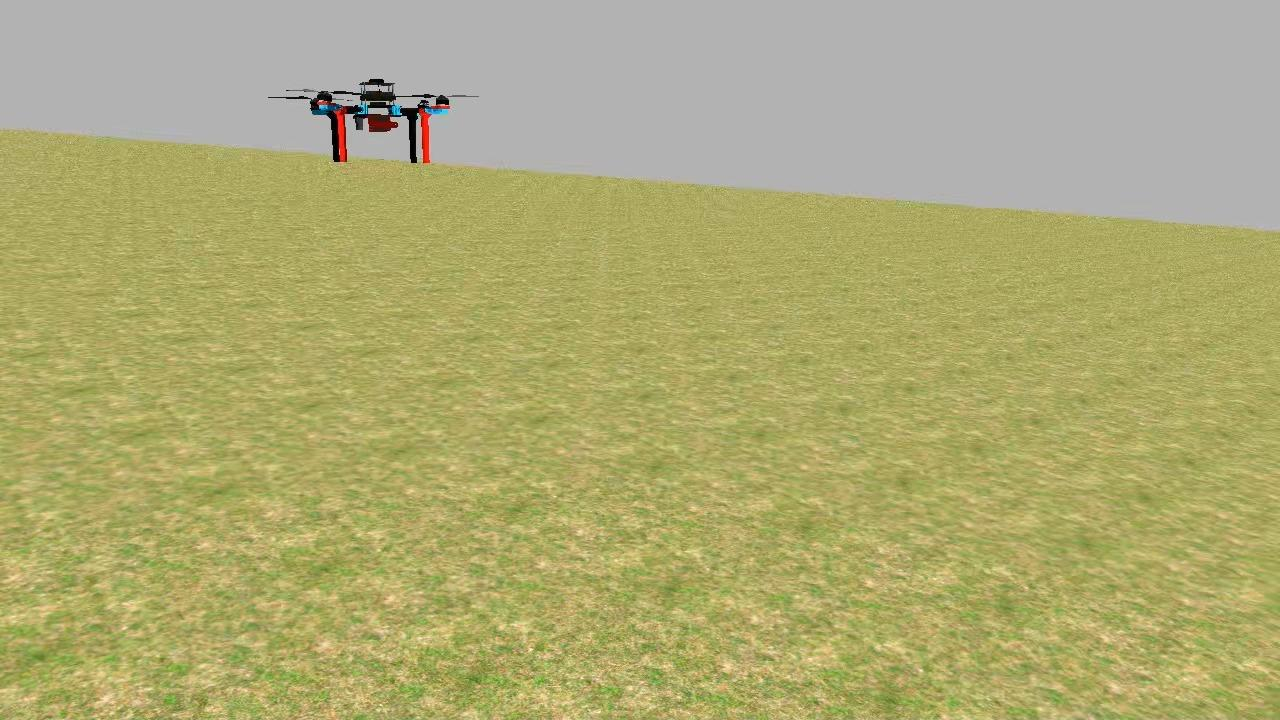UAV: (306, 74, 454, 172)
